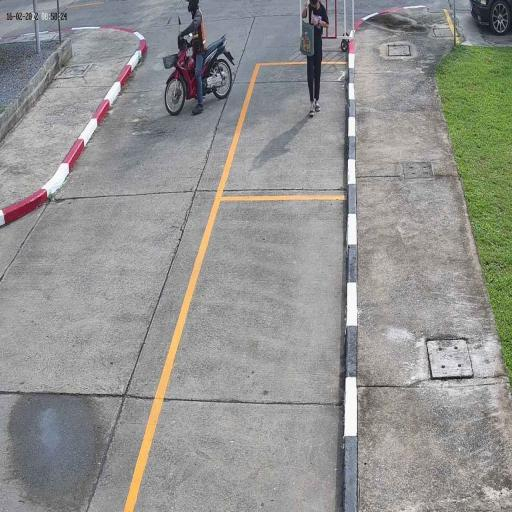motorcycle: (161, 32, 237, 114)
